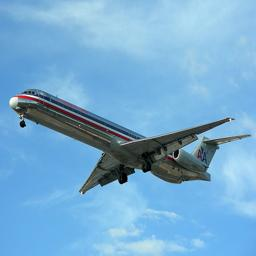aeroplane: (126, 129, 256, 256)
